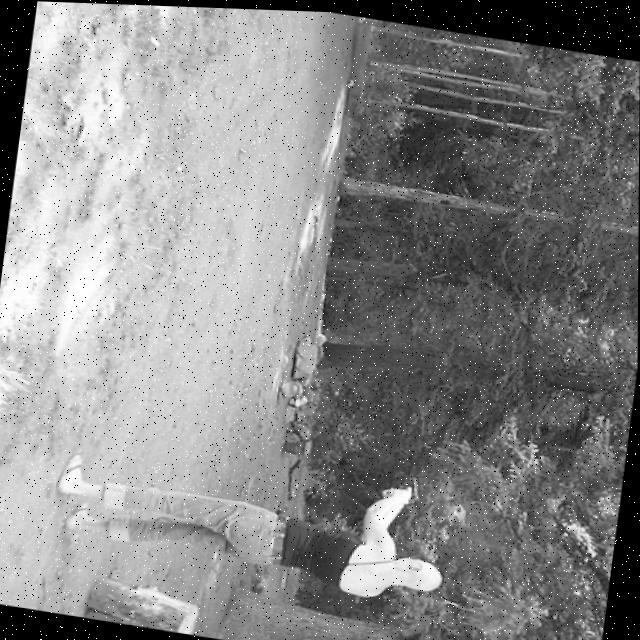pistol: (405, 471, 424, 501)
